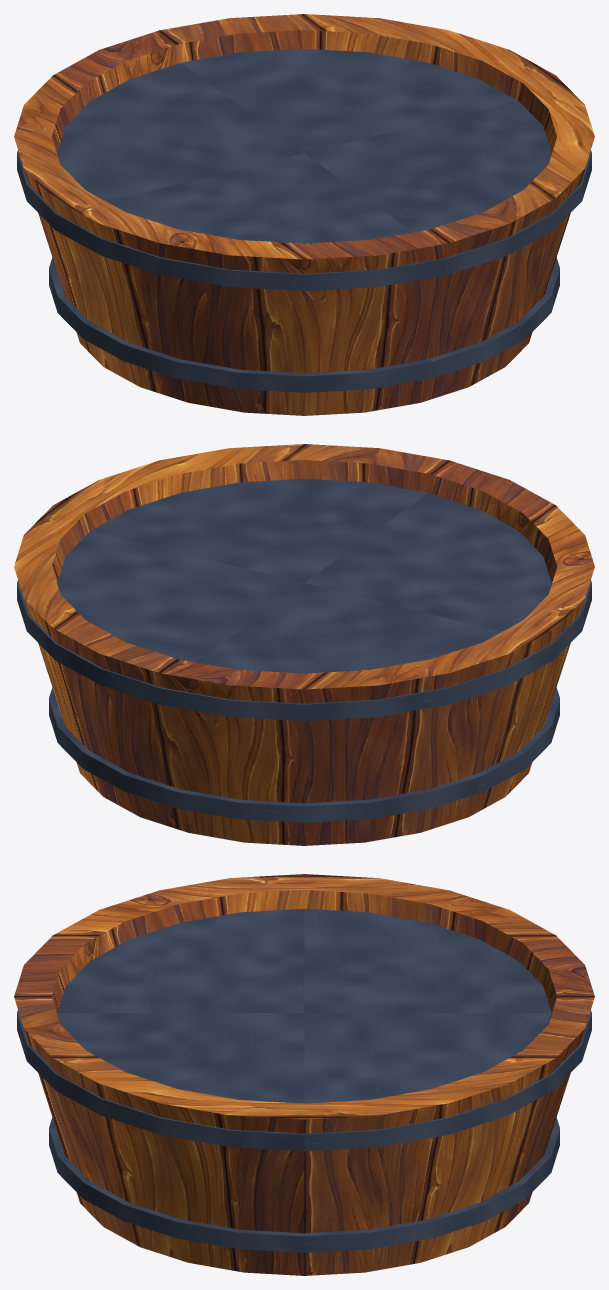
The model's file is Wash_Tub.fbx.
3 renders of one model, top to bottom at view 1: azimuth 30°, elevation 25°; view 2: azimuth 150°, elevation 25°; view 3: azimuth 270°, elevation 25°, orthographic.
Parts seen in each view (by area): view 1: Wash_Tub.001; view 2: Wash_Tub.001; view 3: Wash_Tub.001.
Part boxes in pixels (x1,y1,x2,y2): Wash_Tub.001: (14,14,594,415); Wash_Tub.001: (14,444,594,845); Wash_Tub.001: (14,874,594,1275).
Bounding box in the file's own units: 160 × 55 × 160.
Materials: 3 (3 with a texture image).
